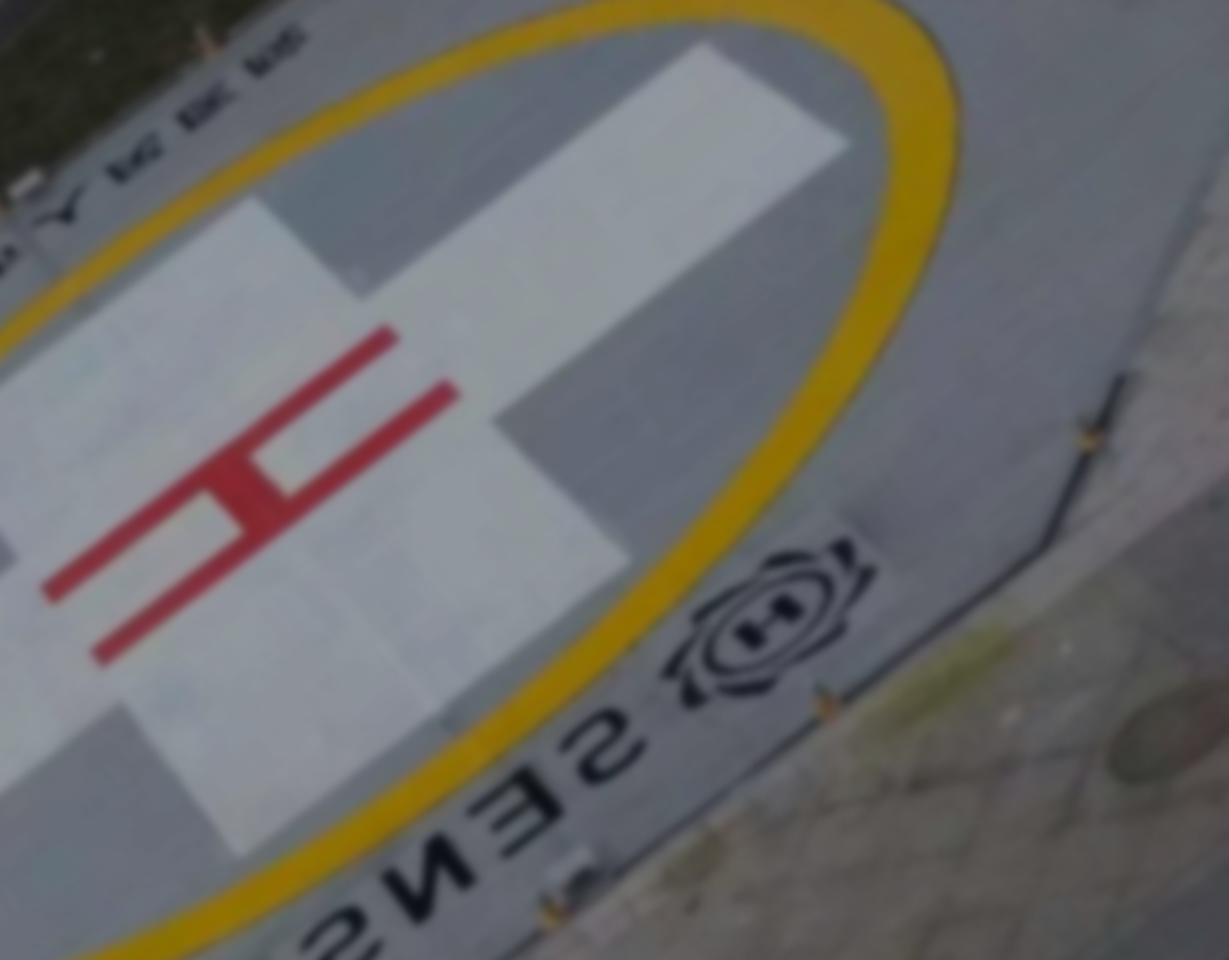Apron: (1, 3, 973, 949)
